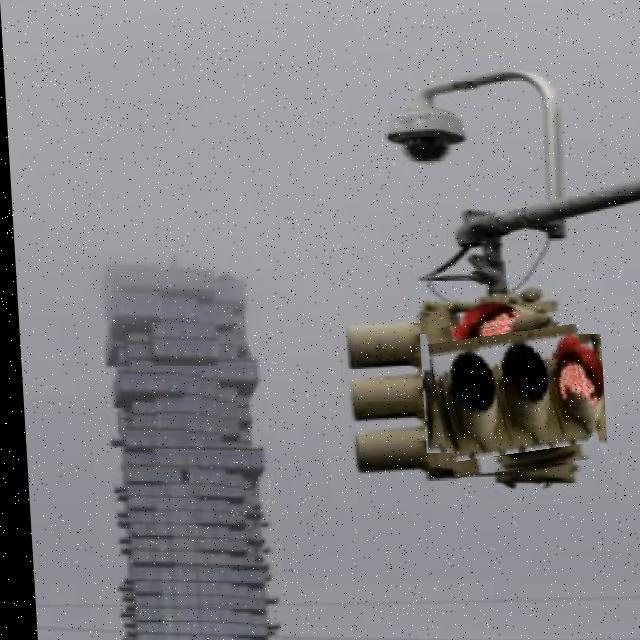Lampu Merah: (425, 314, 593, 474)
